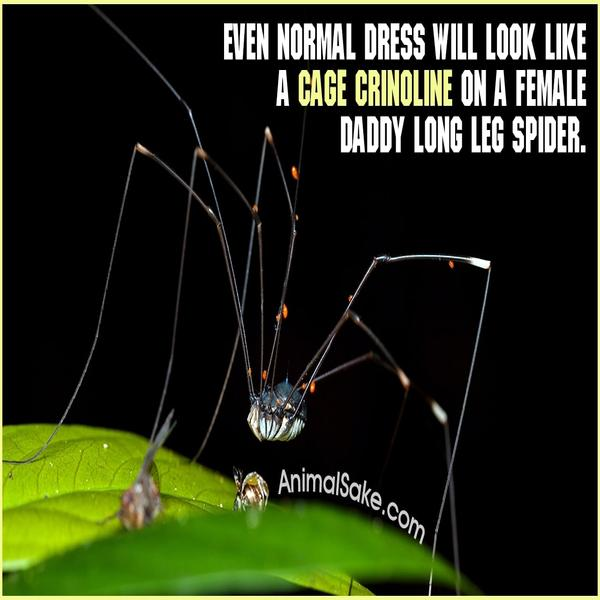Daddy Long Legs Spider: (49, 18, 495, 600)
